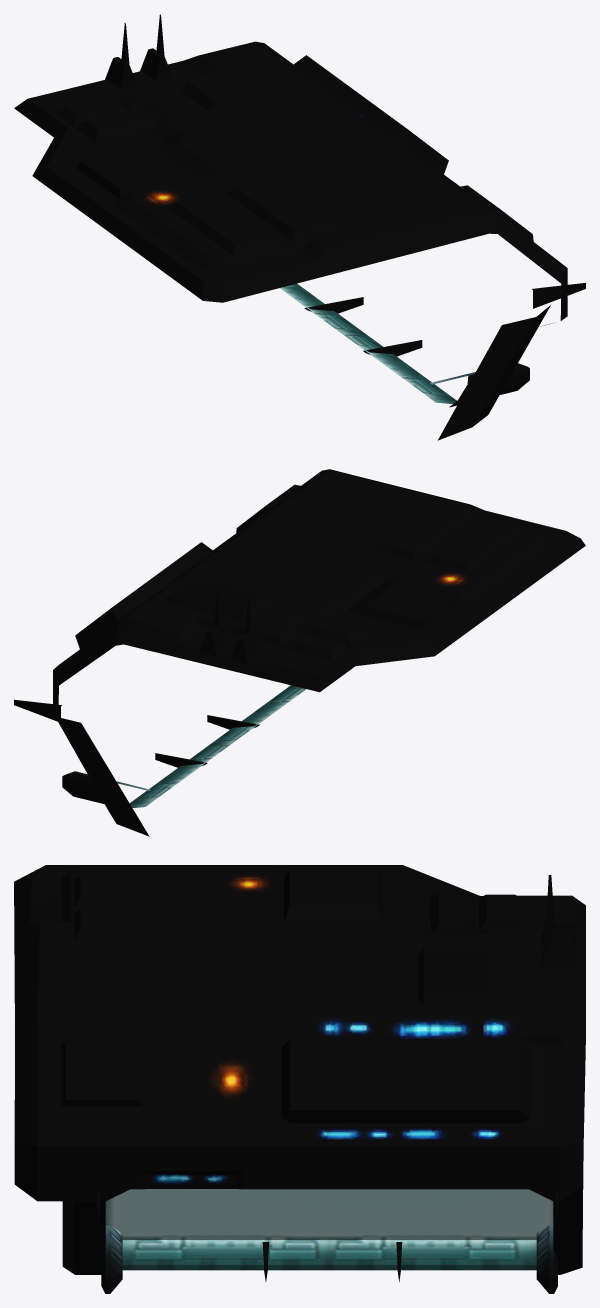
The model's file is hangar_hgn_carrier_02_advanced_01_left.glb.
The picture shows the model from 3 angles, top to bottom: view 1: azimuth 30°, elevation 25°; view 2: azimuth 150°, elevation 25°; view 3: azimuth 270°, elevation 25°; orthographic projection. The views are drawn at different scales.
Visible parts, largest first — view 1: hgn_flagship_carrier_t1_hangar_l_left_LOD0; view 2: hgn_flagship_carrier_t1_hangar_l_left_LOD0; view 3: hgn_flagship_carrier_t1_hangar_l_left_LOD0.
Part boxes in pixels (x1,y1,x2,y2): hgn_flagship_carrier_t1_hangar_l_left_LOD0: (14,14,585,440); hgn_flagship_carrier_t1_hangar_l_left_LOD0: (14,469,585,836); hgn_flagship_carrier_t1_hangar_l_left_LOD0: (14,865,585,1293).
Bounding box in the file's own units: 2.09 × 1.38 × 2.21.
1 material, 1 textured.
